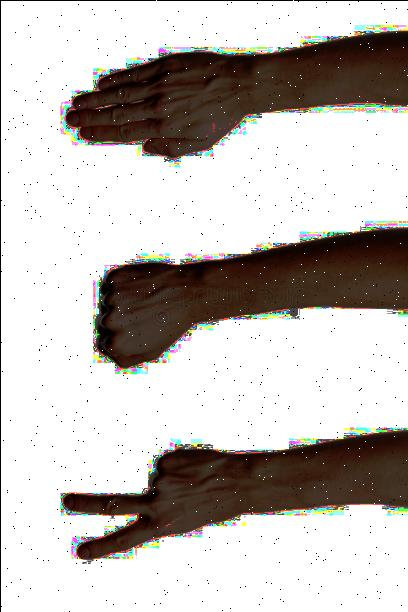Paper: (64, 49, 243, 166)
Rock: (88, 241, 195, 384)
Scissors: (56, 424, 232, 566)
